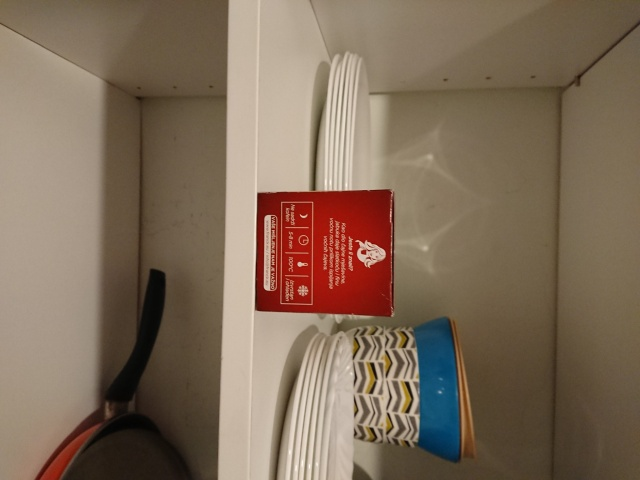Franck Apple Cinnamon Tea 60g: (251, 185, 398, 320)
